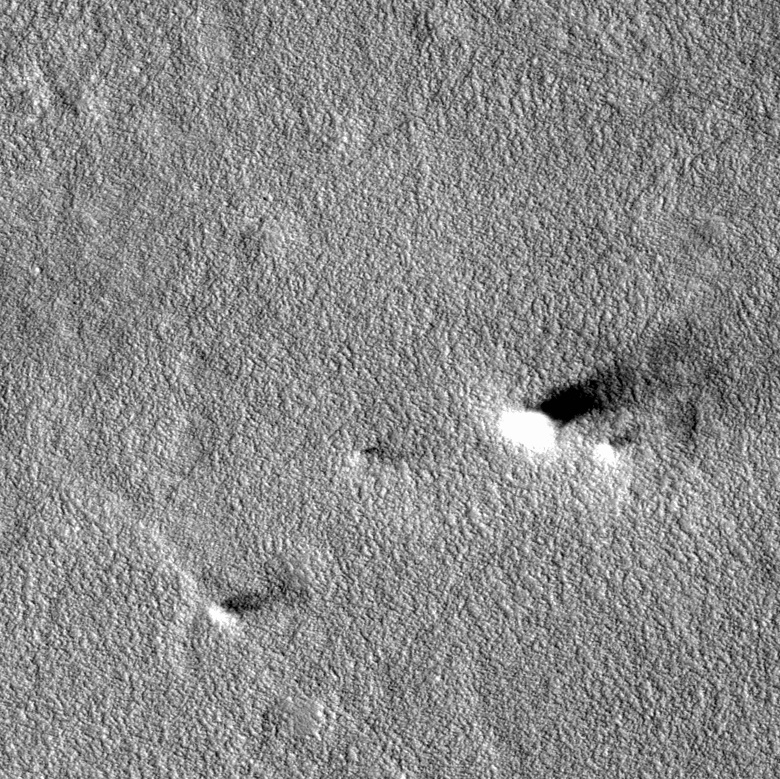dust_devil: (494, 364, 638, 455), (206, 585, 310, 630), (592, 426, 644, 465), (346, 445, 384, 468)
